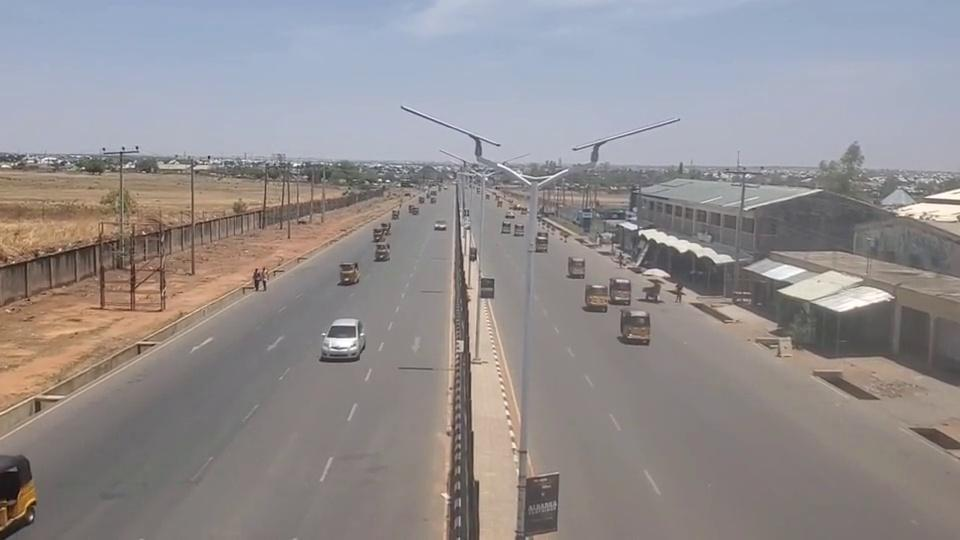keke: (0, 453, 37, 538), (619, 308, 650, 344), (584, 283, 609, 310), (608, 276, 631, 304), (338, 261, 359, 284), (567, 255, 585, 278)
